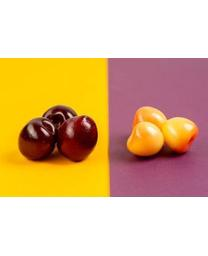cherry: (56, 115, 99, 162), (17, 116, 58, 162), (41, 104, 80, 149), (126, 120, 165, 157), (162, 116, 199, 154), (132, 105, 168, 142)
